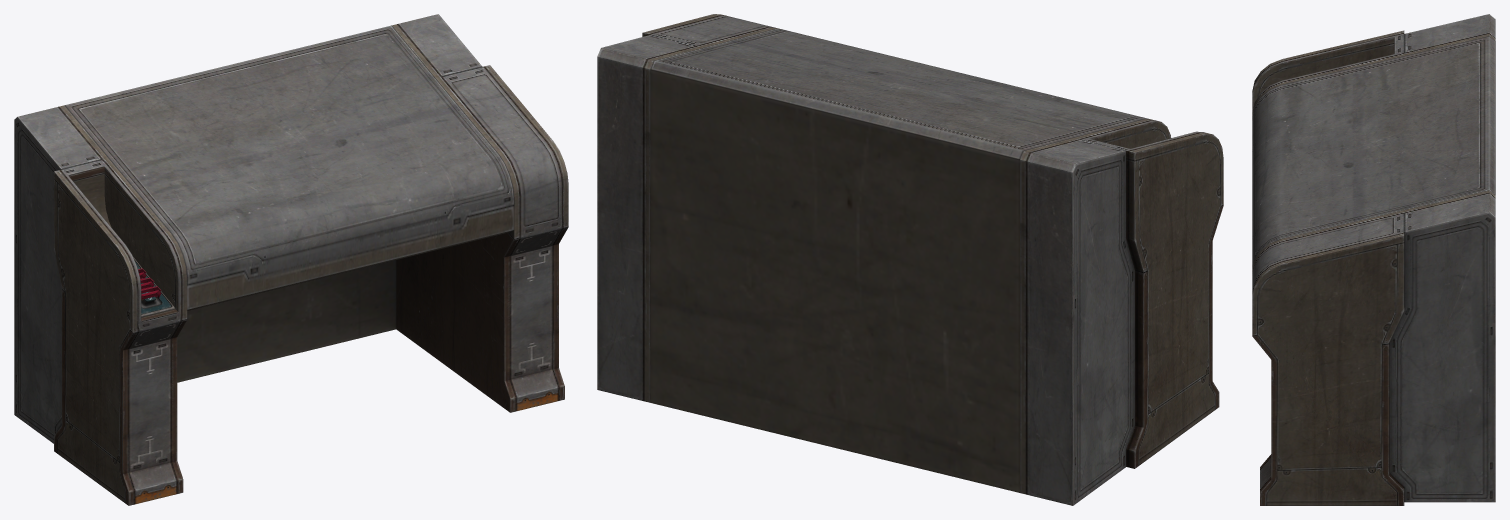
File: 01_01_computer_station_techroom.dae
3 views of the same model, side by side, from view 1: azimuth 30°, elevation 25°; view 2: azimuth 150°, elevation 25°; view 3: azimuth 270°, elevation 25° (orthographic). The views are drawn at different scales.
Parts seen in each view (by area): view 1: polySurface44, polySurface72; view 2: polySurface44; view 3: polySurface44.
Part boxes in pixels (x1,y1,x2,y2): polySurface44: (14, 14, 568, 505); polySurface72: (133, 257, 174, 316); polySurface44: (597, 14, 1223, 505); polySurface44: (1252, 14, 1495, 505).
Size of the model in its own units: 200 by 132 by 100.
